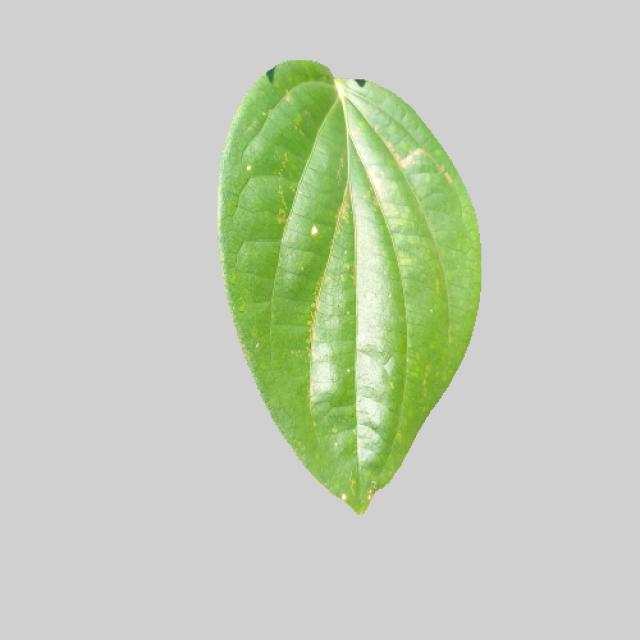healthy: (216, 55, 492, 519)
